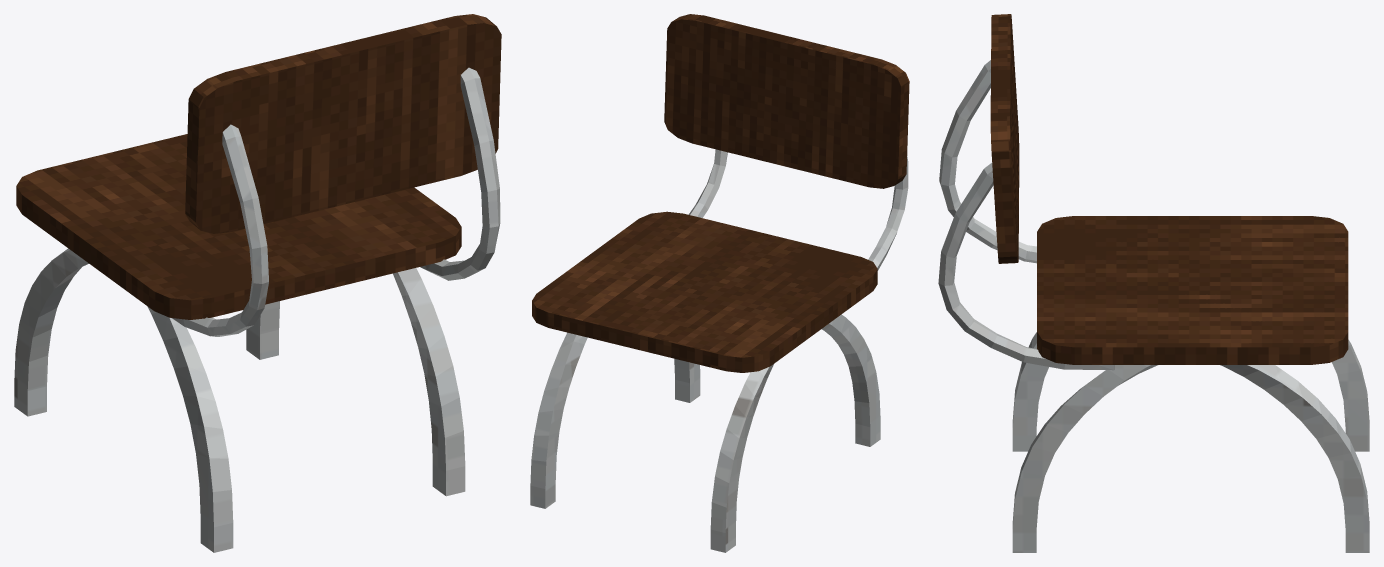
File: Sedia_1.fbx
The picture shows the model from 3 angles, left to right: view 1: azimuth 30°, elevation 25°; view 2: azimuth 150°, elevation 25°; view 3: azimuth 270°, elevation 25°; orthographic projection. The views are drawn at different scales.
Visible parts, largest first — view 1: Cube.056; view 2: Cube.056; view 3: Cube.056.
Part boxes in pixels (<box>): Cube.056: <box>14,14,501,552</box>; Cube.056: <box>530,14,909,552</box>; Cube.056: <box>938,14,1369,552</box>.
Bounding box in the file's own units: 0.7552 × 1.14 × 1.04.
Materials: 2 (2 with a texture image).
